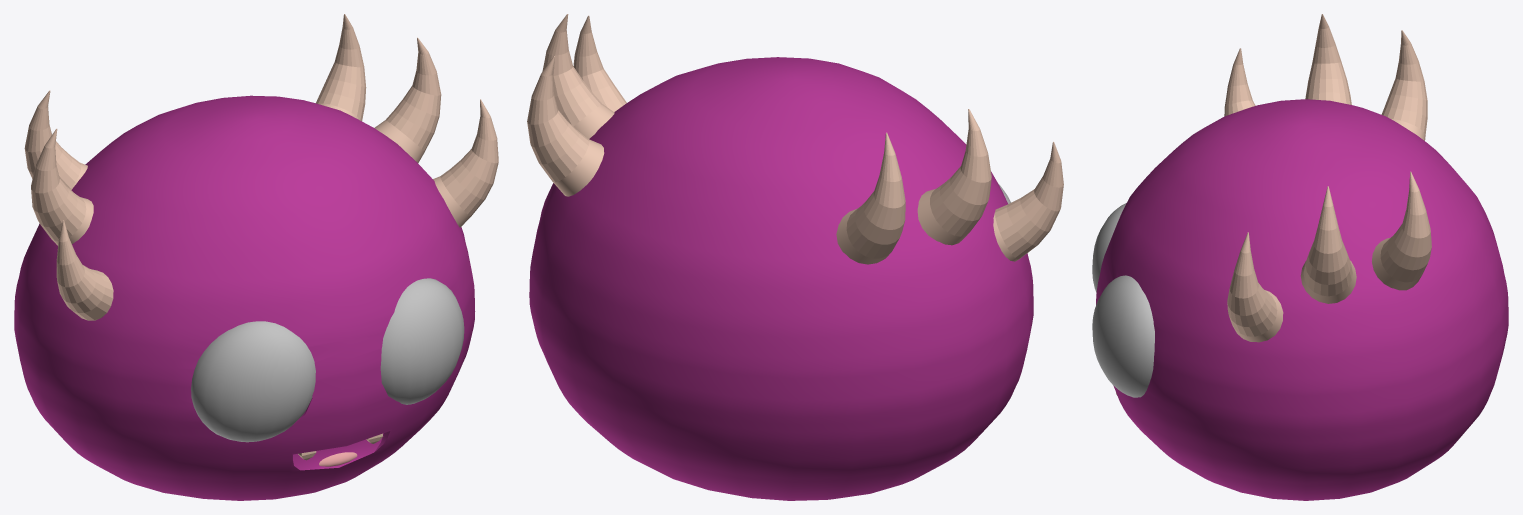
The model's file is anmol_33_scale.fbx.
3 renders of one model, left to right at view 1: azimuth 30°, elevation 25°; view 2: azimuth 150°, elevation 25°; view 3: azimuth 270°, elevation 25°, orthographic. The views are drawn at different scales.
Parts seen in each view (by area): view 1: polySurface3; view 2: polySurface3; view 3: polySurface3.
Boxes of the visible parts, x1,y1,x2,y2 form: polySurface3: (14, 14, 498, 500); polySurface3: (527, 14, 1063, 500); polySurface3: (1092, 14, 1508, 500).
Size of the model in its own units: 1090 by 869 by 916.
